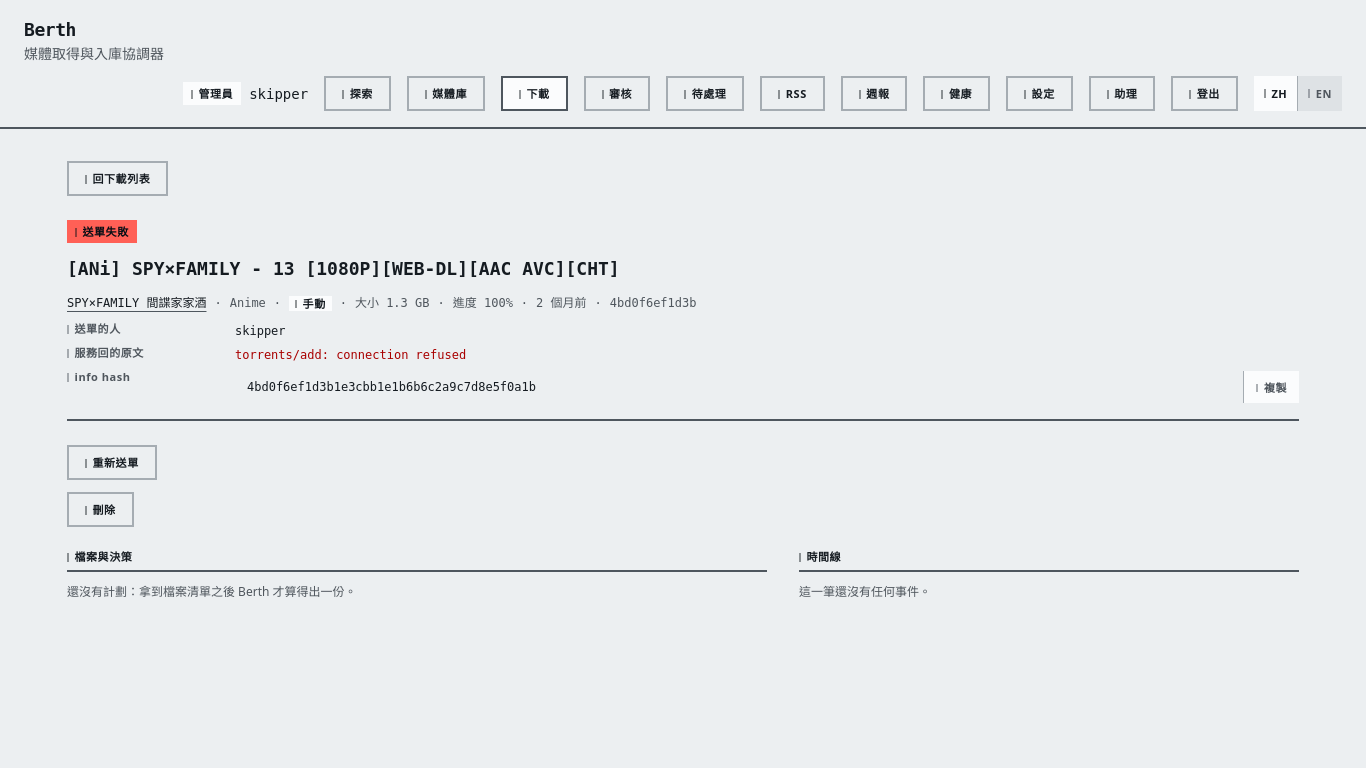
Test: 詳情頁的動作 › 送單失敗那一筆有原文與一顆重試；被擋下來時說那個理由
Expected: the text "torrents/add: connection refused" is shown, [235,348,466,362]
What coordinates should you click on to do the following:
click the button "重新送單"
I would click on:
 (112, 462)
Its box is [67,445,157,480].
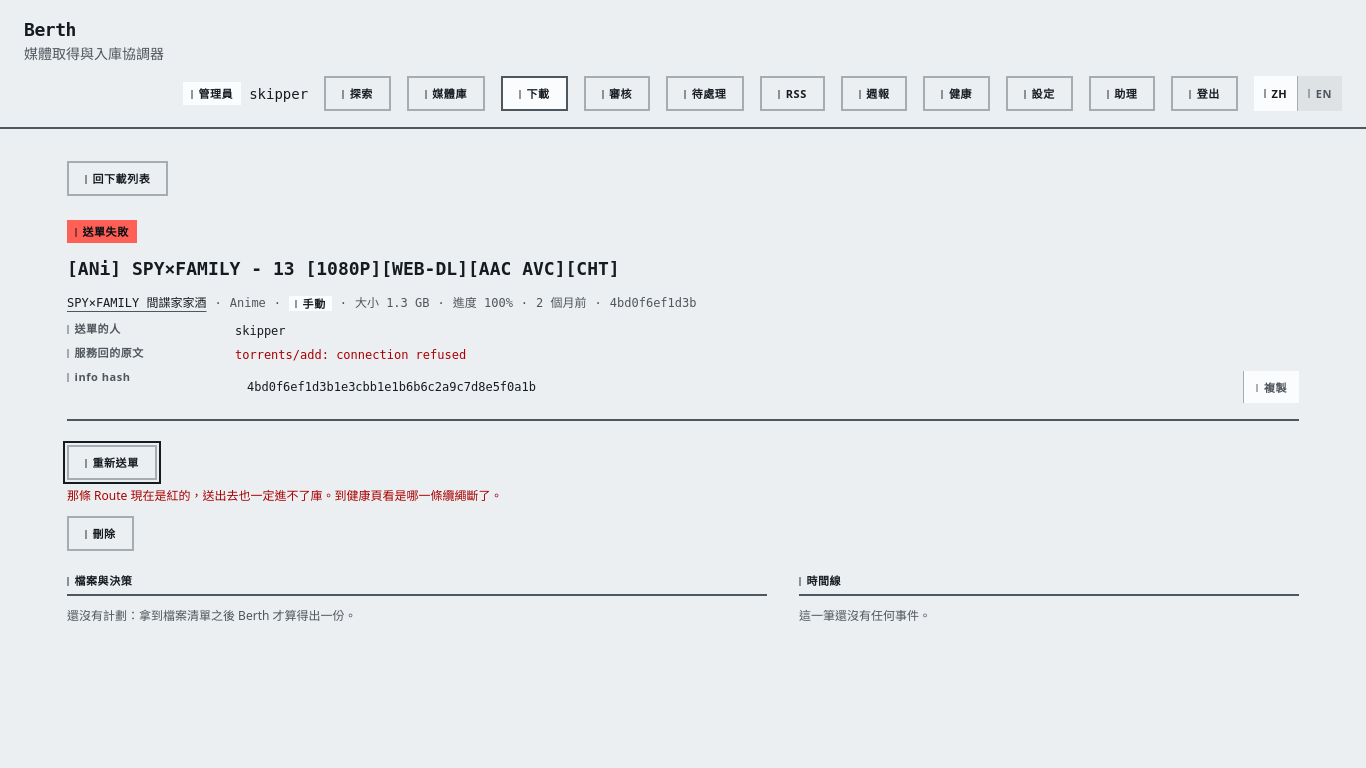
Result: the message shows "那條 Route 現在是紅的" at [67,487,502,504]
